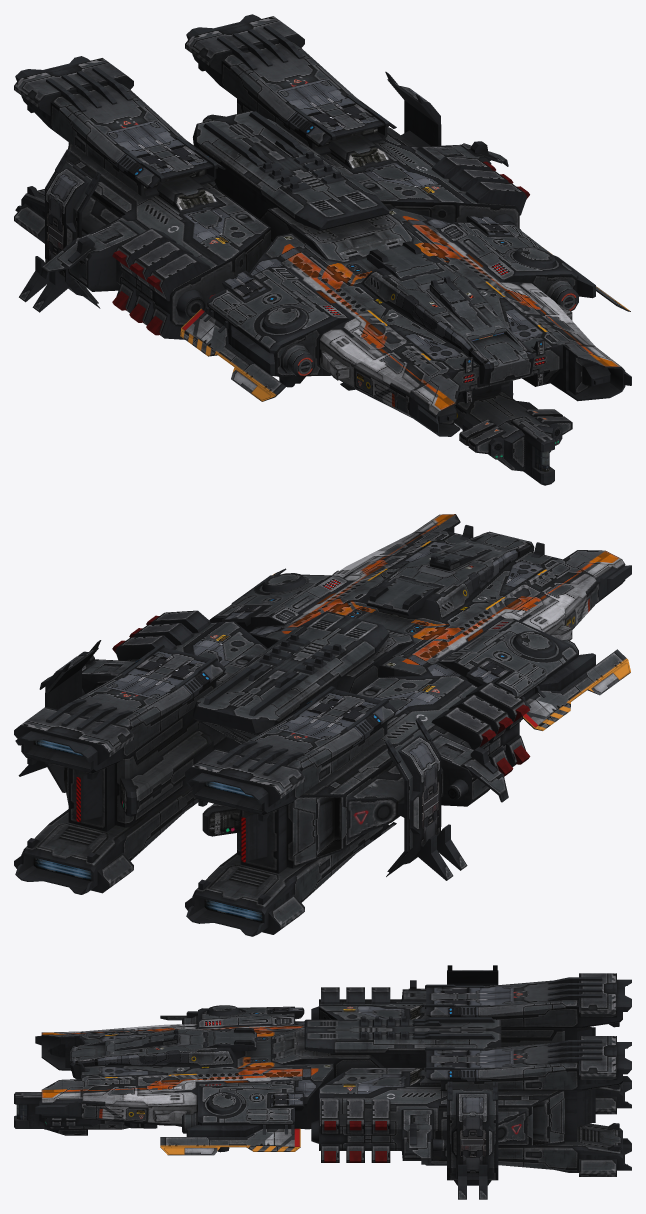
File: Corvette-F3.FBX
The picture shows the model from 3 angles, top to bottom: view 1: azimuth 30°, elevation 25°; view 2: azimuth 150°, elevation 25°; view 3: azimuth 270°, elevation 25°; orthographic projection. The views are drawn at different scales.
Parts seen in each view (by area): view 1: SF_Imperial-Corvette-F3; view 2: SF_Imperial-Corvette-F3; view 3: SF_Imperial-Corvette-F3.
Boxes of the visible parts, x1,y1,x2,y2 form: SF_Imperial-Corvette-F3: (14,14,631,485); SF_Imperial-Corvette-F3: (14,514,631,936); SF_Imperial-Corvette-F3: (14,965,631,1199).
Size of the model in its own units: 198 by 63.5 by 305.
